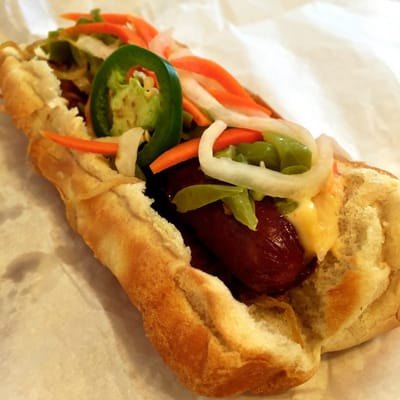burger: (5, 10, 400, 396)
pizza: (41, 130, 119, 156), (149, 137, 201, 175)
